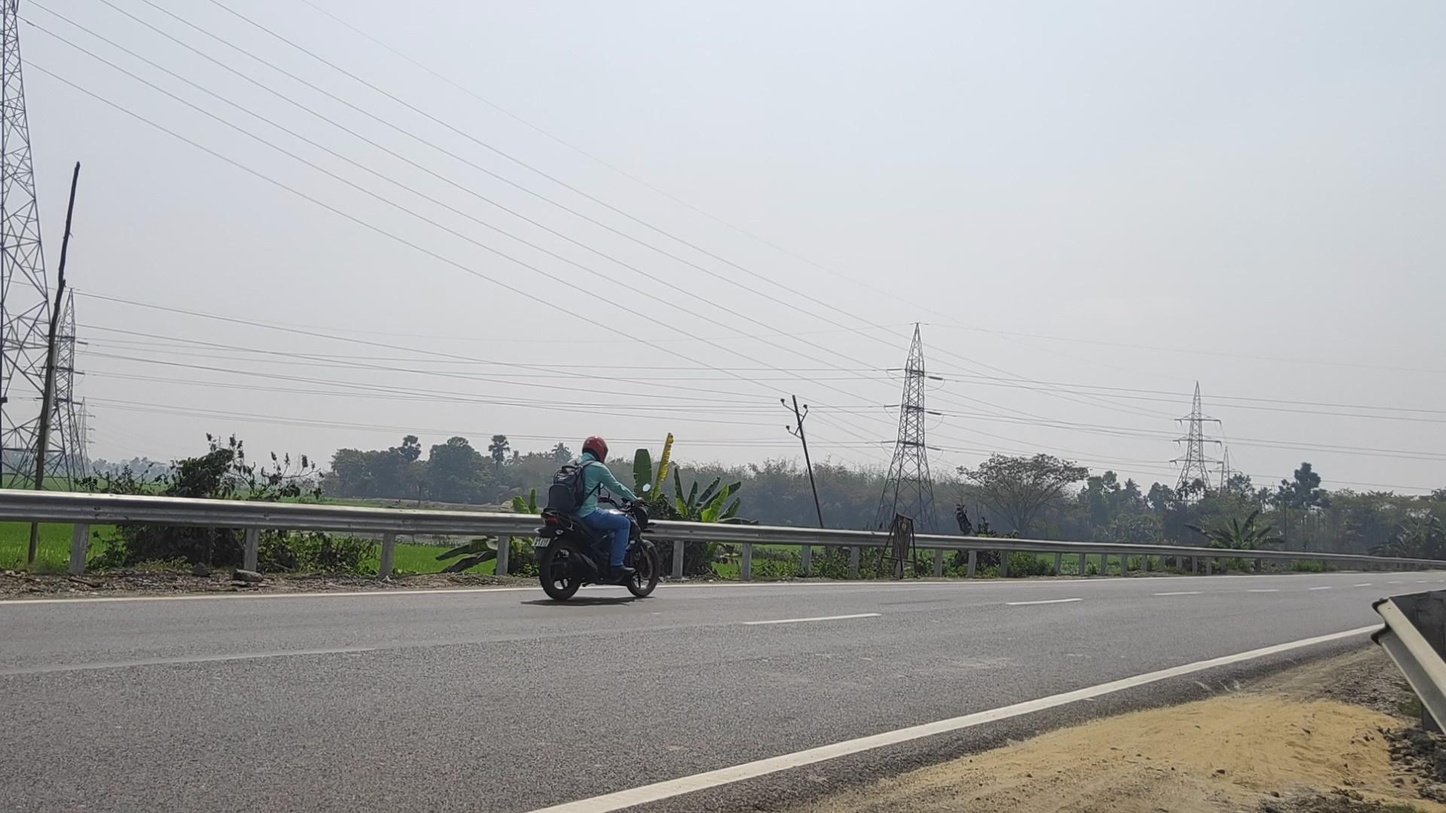bike: (532, 436, 660, 600)
